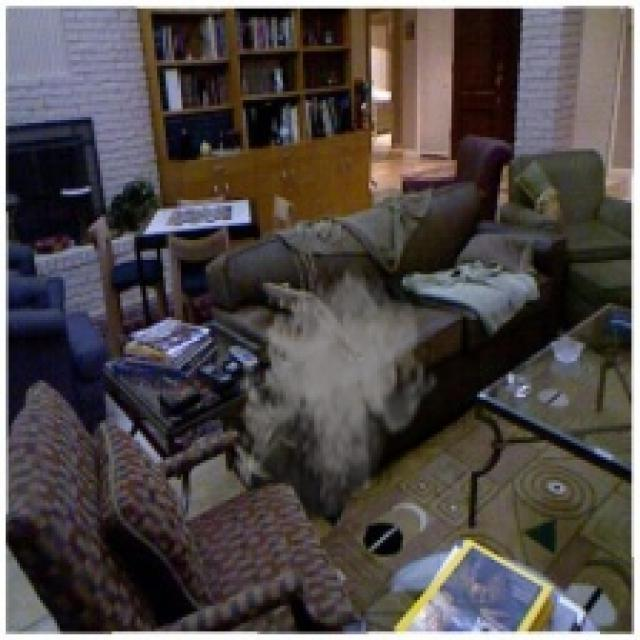smoke: (229, 260, 440, 526)
